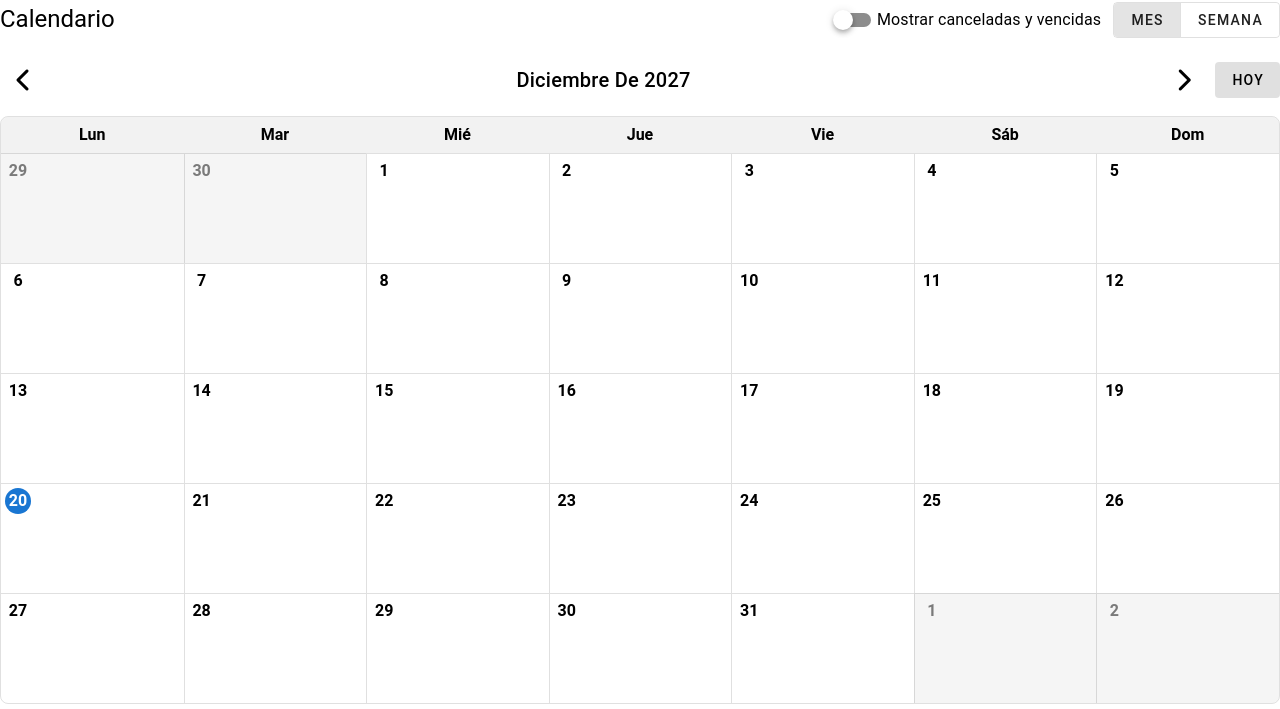
Test: CalendarioView › cruza el cambio de año
Click the button named "Mes siguiente".
click(1183, 80)  # box [1159,56,1207,104]
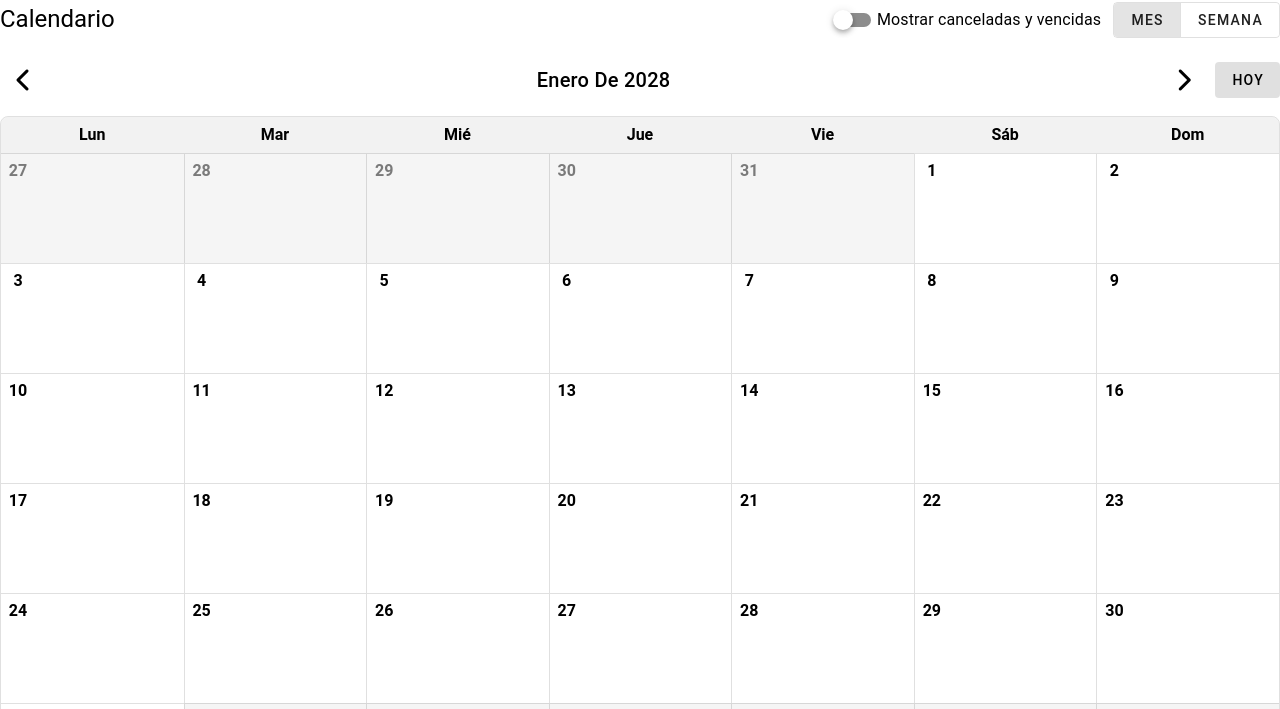
Check: the heading with test id "titulo-mes" reads "enero de 2028", box [537,68,670,92]
